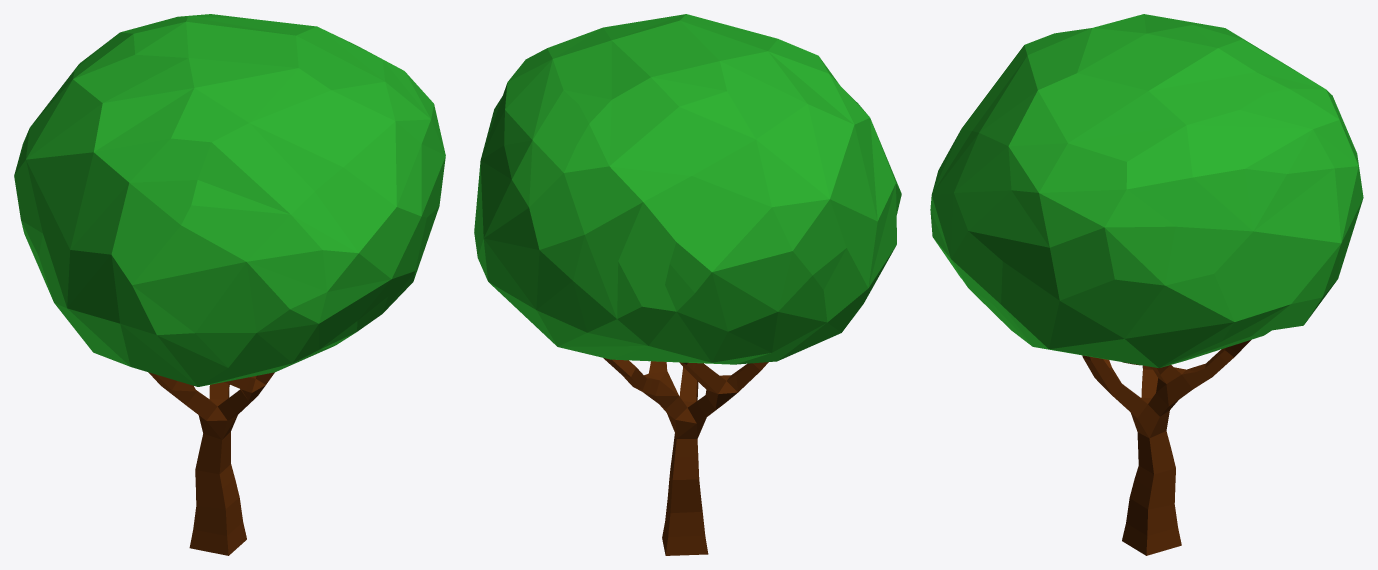
Rendered from tree 2.2Rotated.fbx.
3 renders of one model, left to right at view 1: azimuth 30°, elevation 25°; view 2: azimuth 150°, elevation 25°; view 3: azimuth 270°, elevation 25°, orthographic.
Parts seen in each view (by area): view 1: Tree; view 2: Tree; view 3: Tree.
Part boxes in pixels (<box>): Tree: <box>14,14,445,555</box>; Tree: <box>474,14,901,555</box>; Tree: <box>930,14,1363,555</box>.
Size of the model in its own units: 1198 by 1561 by 1236.
